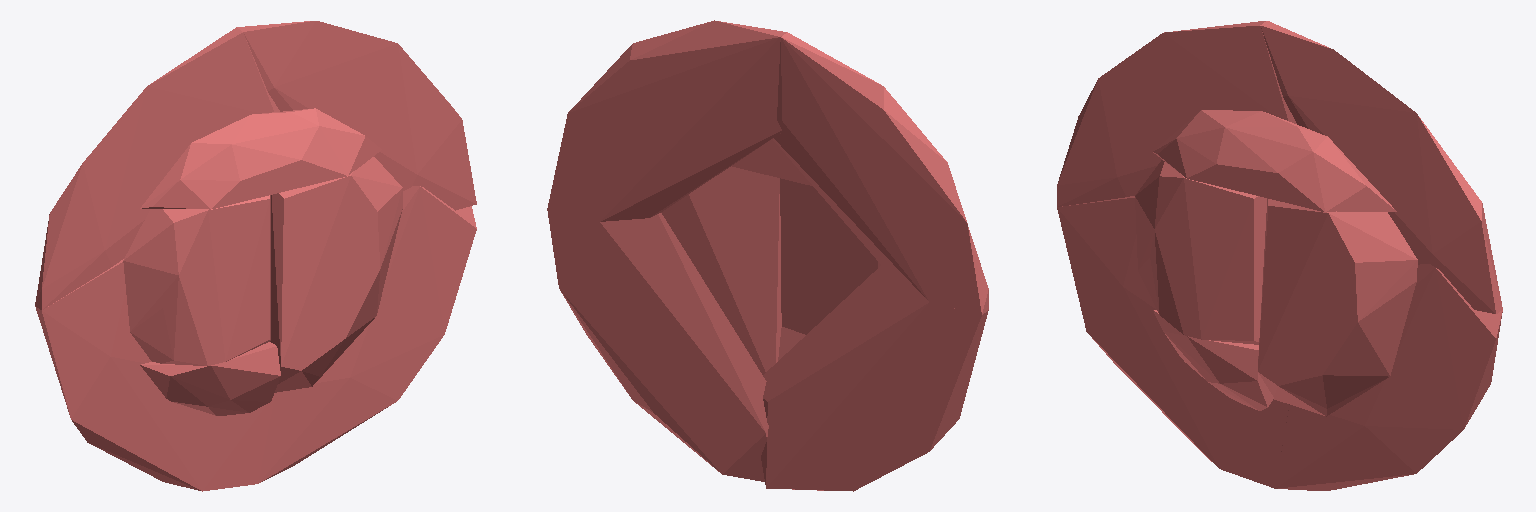
URDF robot description (root):
<robot name="root">
  <link name="link_plate_8p5in_decomp_convex_piece_0">
    <inertial>
      <origin rpy="0 0 0" xyz="0 0 0"/>
      <mass value="7.41E-03"/>
      <inertia ixx="2.01E-05" ixy="2.05E-06" ixz="7.99E-06" iyy="2.42E-05" iyz="4.82E-06" izz="5.98E-06"/>
    </inertial>
    <visual>
      <origin rpy="0 0 0" xyz="0 0 0"/>
      <geometry>
        <mesh filename="plate_8p5in_decomp_convex_piece_0.obj" scale="1.0000E+00 1.0000E+00 1.0000E+00"/>
      </geometry>
      <material name="">
        <color rgba="9.00E-01 5.00E-01 5.00E-01 1"/>
      </material>
    </visual>
    <collision>
      <origin rpy="0 0 0" xyz="0 0 0"/>
      <geometry>
        <mesh filename="plate_8p5in_decomp_convex_piece_0.obj" scale="1.0000E+00 1.0000E+00 1.0000E+00"/>
      </geometry>
    </collision>
  </link>
  <link name="link_plate_8p5in_decomp_convex_piece_1">
    <inertial>
      <origin rpy="0 0 0" xyz="0 0 0"/>
      <mass value="2.59E-02"/>
      <inertia ixx="1.58E-05" ixy="1.26E-05" ixz="-3.67E-08" iyy="4.72E-05" iyz="4.52E-08" izz="4.04E-05"/>
    </inertial>
    <visual>
      <origin rpy="0 0 0" xyz="0 0 0"/>
      <geometry>
        <mesh filename="plate_8p5in_decomp_convex_piece_1.obj" scale="1.0000E+00 1.0000E+00 1.0000E+00"/>
      </geometry>
      <material name="">
        <color rgba="9.00E-01 5.00E-01 5.00E-01 1"/>
      </material>
    </visual>
    <collision>
      <origin rpy="0 0 0" xyz="0 0 0"/>
      <geometry>
        <mesh filename="plate_8p5in_decomp_convex_piece_1.obj" scale="1.0000E+00 1.0000E+00 1.0000E+00"/>
      </geometry>
    </collision>
  </link>
  <joint name="link_plate_8p5in_decomp_convex_piece_1_joint" type="fixed">
    <origin rpy="0 0 0" xyz="0 0 0"/>
    <parent link="link_plate_8p5in_decomp_convex_piece_0"/>
    <child link="link_plate_8p5in_decomp_convex_piece_1"/>
  </joint>
  <link name="link_plate_8p5in_decomp_convex_piece_2">
    <inertial>
      <origin rpy="0 0 0" xyz="0 0 0"/>
      <mass value="2.32E-02"/>
      <inertia ixx="8.16E-05" ixy="-3.57E-06" ixz="4.96E-05" iyy="1.64E-04" iyz="-3.78E-06" izz="7.93E-05"/>
    </inertial>
    <visual>
      <origin rpy="0 0 0" xyz="0 0 0"/>
      <geometry>
        <mesh filename="plate_8p5in_decomp_convex_piece_2.obj" scale="1.0000E+00 1.0000E+00 1.0000E+00"/>
      </geometry>
      <material name="">
        <color rgba="9.00E-01 5.00E-01 5.00E-01 1"/>
      </material>
    </visual>
    <collision>
      <origin rpy="0 0 0" xyz="0 0 0"/>
      <geometry>
        <mesh filename="plate_8p5in_decomp_convex_piece_2.obj" scale="1.0000E+00 1.0000E+00 1.0000E+00"/>
      </geometry>
    </collision>
  </link>
  <joint name="link_plate_8p5in_decomp_convex_piece_2_joint" type="fixed">
    <origin rpy="0 0 0" xyz="0 0 0"/>
    <parent link="link_plate_8p5in_decomp_convex_piece_1"/>
    <child link="link_plate_8p5in_decomp_convex_piece_2"/>
  </joint>
  <link name="link_plate_8p5in_decomp_convex_piece_3">
    <inertial>
      <origin rpy="0 0 0" xyz="0 0 0"/>
      <mass value="1.46E-02"/>
      <inertia ixx="3.66E-05" ixy="7.96E-08" ixz="-3.48E-07" iyy="4.36E-05" iyz="-9.43E-06" izz="1.07E-05"/>
    </inertial>
    <visual>
      <origin rpy="0 0 0" xyz="0 0 0"/>
      <geometry>
        <mesh filename="plate_8p5in_decomp_convex_piece_3.obj" scale="1.0000E+00 1.0000E+00 1.0000E+00"/>
      </geometry>
      <material name="">
        <color rgba="9.00E-01 5.00E-01 5.00E-01 1"/>
      </material>
    </visual>
    <collision>
      <origin rpy="0 0 0" xyz="0 0 0"/>
      <geometry>
        <mesh filename="plate_8p5in_decomp_convex_piece_3.obj" scale="1.0000E+00 1.0000E+00 1.0000E+00"/>
      </geometry>
    </collision>
  </link>
  <joint name="link_plate_8p5in_decomp_convex_piece_3_joint" type="fixed">
    <origin rpy="0 0 0" xyz="0 0 0"/>
    <parent link="link_plate_8p5in_decomp_convex_piece_2"/>
    <child link="link_plate_8p5in_decomp_convex_piece_3"/>
  </joint>
  <link name="link_plate_8p5in_decomp_convex_piece_4">
    <inertial>
      <origin rpy="0 0 0" xyz="0 0 0"/>
      <mass value="3.71E-02"/>
      <inertia ixx="3.39E-05" ixy="-1.49E-05" ixz="-6.48E-06" iyy="6.86E-05" iyz="4.76E-06" izz="4.63E-05"/>
    </inertial>
    <visual>
      <origin rpy="0 0 0" xyz="0 0 0"/>
      <geometry>
        <mesh filename="plate_8p5in_decomp_convex_piece_4.obj" scale="1.0000E+00 1.0000E+00 1.0000E+00"/>
      </geometry>
      <material name="">
        <color rgba="9.00E-01 5.00E-01 5.00E-01 1"/>
      </material>
    </visual>
    <collision>
      <origin rpy="0 0 0" xyz="0 0 0"/>
      <geometry>
        <mesh filename="plate_8p5in_decomp_convex_piece_4.obj" scale="1.0000E+00 1.0000E+00 1.0000E+00"/>
      </geometry>
    </collision>
  </link>
  <joint name="link_plate_8p5in_decomp_convex_piece_4_joint" type="fixed">
    <origin rpy="0 0 0" xyz="0 0 0"/>
    <parent link="link_plate_8p5in_decomp_convex_piece_3"/>
    <child link="link_plate_8p5in_decomp_convex_piece_4"/>
  </joint>
  <link name="link_plate_8p5in_decomp_convex_piece_5">
    <inertial>
      <origin rpy="0 0 0" xyz="0 0 0"/>
      <mass value="2.55E-02"/>
      <inertia ixx="8.18E-05" ixy="4.14E-06" ixz="5.06E-05" iyy="1.70E-04" iyz="3.87E-06" izz="8.51E-05"/>
    </inertial>
    <visual>
      <origin rpy="0 0 0" xyz="0 0 0"/>
      <geometry>
        <mesh filename="plate_8p5in_decomp_convex_piece_5.obj" scale="1.0000E+00 1.0000E+00 1.0000E+00"/>
      </geometry>
      <material name="">
        <color rgba="9.00E-01 5.00E-01 5.00E-01 1"/>
      </material>
    </visual>
    <collision>
      <origin rpy="0 0 0" xyz="0 0 0"/>
      <geometry>
        <mesh filename="plate_8p5in_decomp_convex_piece_5.obj" scale="1.0000E+00 1.0000E+00 1.0000E+00"/>
      </geometry>
    </collision>
  </link>
  <joint name="link_plate_8p5in_decomp_convex_piece_5_joint" type="fixed">
    <origin rpy="0 0 0" xyz="0 0 0"/>
    <parent link="link_plate_8p5in_decomp_convex_piece_4"/>
    <child link="link_plate_8p5in_decomp_convex_piece_5"/>
  </joint>
  <link name="link_plate_8p5in_decomp_convex_piece_6">
    <inertial>
      <origin rpy="0 0 0" xyz="0 0 0"/>
      <mass value="2.43E-02"/>
      <inertia ixx="7.49E-05" ixy="-4.16E-06" ixz="-5.04E-05" iyy="1.64E-04" iyz="3.67E-06" izz="8.65E-05"/>
    </inertial>
    <visual>
      <origin rpy="0 0 0" xyz="0 0 0"/>
      <geometry>
        <mesh filename="plate_8p5in_decomp_convex_piece_6.obj" scale="1.0000E+00 1.0000E+00 1.0000E+00"/>
      </geometry>
      <material name="">
        <color rgba="9.00E-01 5.00E-01 5.00E-01 1"/>
      </material>
    </visual>
    <collision>
      <origin rpy="0 0 0" xyz="0 0 0"/>
      <geometry>
        <mesh filename="plate_8p5in_decomp_convex_piece_6.obj" scale="1.0000E+00 1.0000E+00 1.0000E+00"/>
      </geometry>
    </collision>
  </link>
  <joint name="link_plate_8p5in_decomp_convex_piece_6_joint" type="fixed">
    <origin rpy="0 0 0" xyz="0 0 0"/>
    <parent link="link_plate_8p5in_decomp_convex_piece_5"/>
    <child link="link_plate_8p5in_decomp_convex_piece_6"/>
  </joint>
  <link name="link_plate_8p5in_decomp_convex_piece_7">
    <inertial>
      <origin rpy="0 0 0" xyz="0 0 0"/>
      <mass value="2.19E-02"/>
      <inertia ixx="7.26E-05" ixy="3.57E-06" ixz="-4.95E-05" iyy="1.54E-04" iyz="-3.60E-06" izz="7.86E-05"/>
    </inertial>
    <visual>
      <origin rpy="0 0 0" xyz="0 0 0"/>
      <geometry>
        <mesh filename="plate_8p5in_decomp_convex_piece_7.obj" scale="1.0000E+00 1.0000E+00 1.0000E+00"/>
      </geometry>
      <material name="">
        <color rgba="9.00E-01 5.00E-01 5.00E-01 1"/>
      </material>
    </visual>
    <collision>
      <origin rpy="0 0 0" xyz="0 0 0"/>
      <geometry>
        <mesh filename="plate_8p5in_decomp_convex_piece_7.obj" scale="1.0000E+00 1.0000E+00 1.0000E+00"/>
      </geometry>
    </collision>
  </link>
  <joint name="link_plate_8p5in_decomp_convex_piece_7_joint" type="fixed">
    <origin rpy="0 0 0" xyz="0 0 0"/>
    <parent link="link_plate_8p5in_decomp_convex_piece_6"/>
    <child link="link_plate_8p5in_decomp_convex_piece_7"/>
  </joint>
</robot>

--- Facts derived from the render (not from the file) ---
3 views of the same robot in one strip: view 1: azimuth 30°, elevation 25°; view 2: azimuth 150°, elevation 25°; view 3: azimuth 330°, elevation 25° (orthographic).
Robot: root — 8 links, 7 joints (7 fixed); root link link_plate_8p5in_decomp_convex_piece_0; default pose: every joint at zero.
Links seen in each view (by area): view 1: link_plate_8p5in_decomp_convex_piece_5, link_plate_8p5in_decomp_convex_piece_7, link_plate_8p5in_decomp_convex_piece_6, link_plate_8p5in_decomp_convex_piece_2, link_plate_8p5in_decomp_convex_piece_4, link_plate_8p5in_decomp_convex_piece_1, link_plate_8p5in_decomp_convex_piece_3, link_plate_8p5in_decomp_convex_piece_0; view 2: link_plate_8p5in_decomp_convex_piece_5, link_plate_8p5in_decomp_convex_piece_6, link_plate_8p5in_decomp_convex_piece_2, link_plate_8p5in_decomp_convex_piece_7, link_plate_8p5in_decomp_convex_piece_4, link_plate_8p5in_decomp_convex_piece_1, link_plate_8p5in_decomp_convex_piece_3; view 3: link_plate_8p5in_decomp_convex_piece_4, link_plate_8p5in_decomp_convex_piece_6, link_plate_8p5in_decomp_convex_piece_2, link_plate_8p5in_decomp_convex_piece_7, link_plate_8p5in_decomp_convex_piece_5, link_plate_8p5in_decomp_convex_piece_1, link_plate_8p5in_decomp_convex_piece_3, link_plate_8p5in_decomp_convex_piece_0.
Link boxes in pixels (x1,y1,x2,y2): link_plate_8p5in_decomp_convex_piece_5: (35, 259, 274, 491); link_plate_8p5in_decomp_convex_piece_7: (35, 27, 279, 309); link_plate_8p5in_decomp_convex_piece_6: (258, 186, 476, 483); link_plate_8p5in_decomp_convex_piece_2: (237, 21, 476, 210); link_plate_8p5in_decomp_convex_piece_4: (270, 157, 402, 392); link_plate_8p5in_decomp_convex_piece_1: (123, 195, 270, 365); link_plate_8p5in_decomp_convex_piece_3: (140, 108, 381, 209); link_plate_8p5in_decomp_convex_piece_0: (140, 342, 280, 415); link_plate_8p5in_decomp_convex_piece_5: (761, 265, 988, 491); link_plate_8p5in_decomp_convex_piece_6: (547, 209, 768, 481); link_plate_8p5in_decomp_convex_piece_2: (547, 20, 786, 221); link_plate_8p5in_decomp_convex_piece_7: (773, 32, 988, 314); link_plate_8p5in_decomp_convex_piece_4: (661, 166, 781, 374); link_plate_8p5in_decomp_convex_piece_1: (780, 178, 880, 334); link_plate_8p5in_decomp_convex_piece_3: (732, 139, 811, 185); link_plate_8p5in_decomp_convex_piece_4: (1258, 198, 1417, 416); link_plate_8p5in_decomp_convex_piece_6: (1275, 264, 1502, 490); link_plate_8p5in_decomp_convex_piece_2: (1260, 21, 1502, 313); link_plate_8p5in_decomp_convex_piece_7: (1057, 21, 1296, 206); link_plate_8p5in_decomp_convex_piece_5: (1057, 196, 1288, 488); link_plate_8p5in_decomp_convex_piece_1: (1135, 160, 1266, 344); link_plate_8p5in_decomp_convex_piece_3: (1153, 110, 1396, 211); link_plate_8p5in_decomp_convex_piece_0: (1153, 310, 1273, 410).
Bounding box of the posed robot: 0.2176 × 0.0234 × 0.2176 m (x, y, z).
Meshes: 8 distinct files referenced, 8 mesh visuals loaded (8 OBJ).